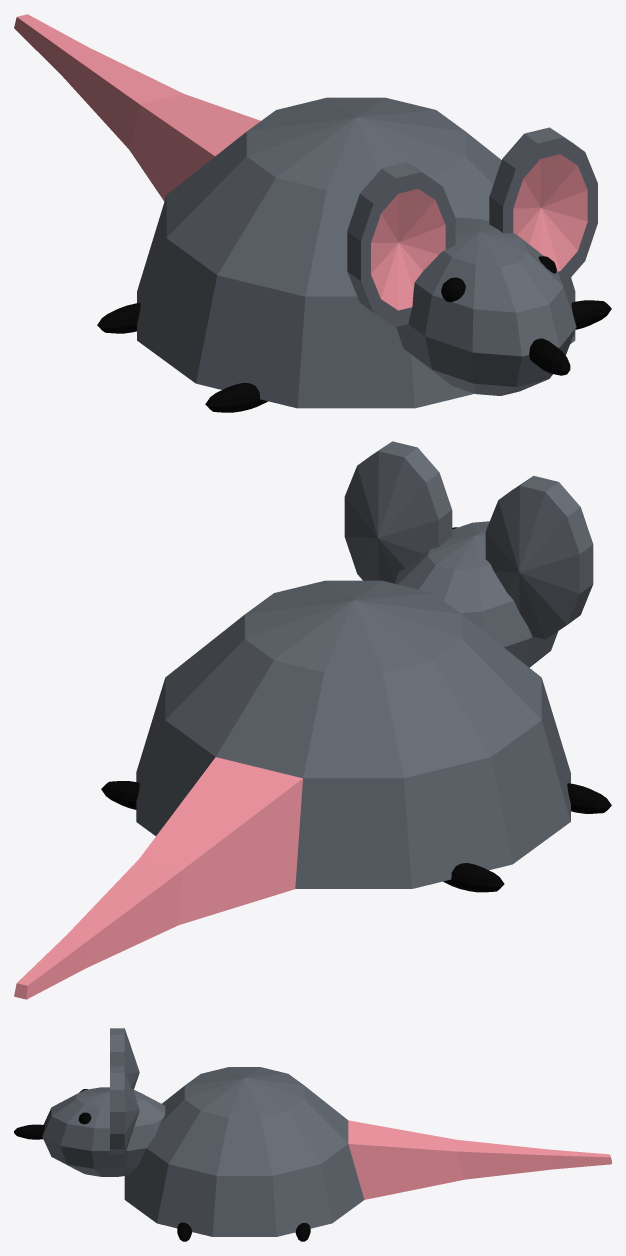
File: Rat.gltf
The picture shows the model from 3 angles, top to bottom: view 1: azimuth 30°, elevation 25°; view 2: azimuth 150°, elevation 25°; view 3: azimuth 270°, elevation 25°; orthographic projection. The views are drawn at different scales.
Parts seen in each view (by area): view 1: sphere (×6), tube (×2); view 2: sphere (×5), tube (×2); view 3: sphere (×3), tube (×2).
Boxes of the visible parts, box(x1,y1,x2,y2) form: sphere (×6): box(14, 14, 611, 412); tube (×2): box(347, 127, 597, 327); sphere (×5): box(14, 521, 611, 999); tube (×2): box(344, 441, 593, 639); sphere (×3): box(14, 1067, 611, 1236); tube (×2): box(110, 1028, 139, 1154).
Bounding box in the file's own units: 1.06 × 0.6563 × 2.5.
3 materials, 3 textured.
